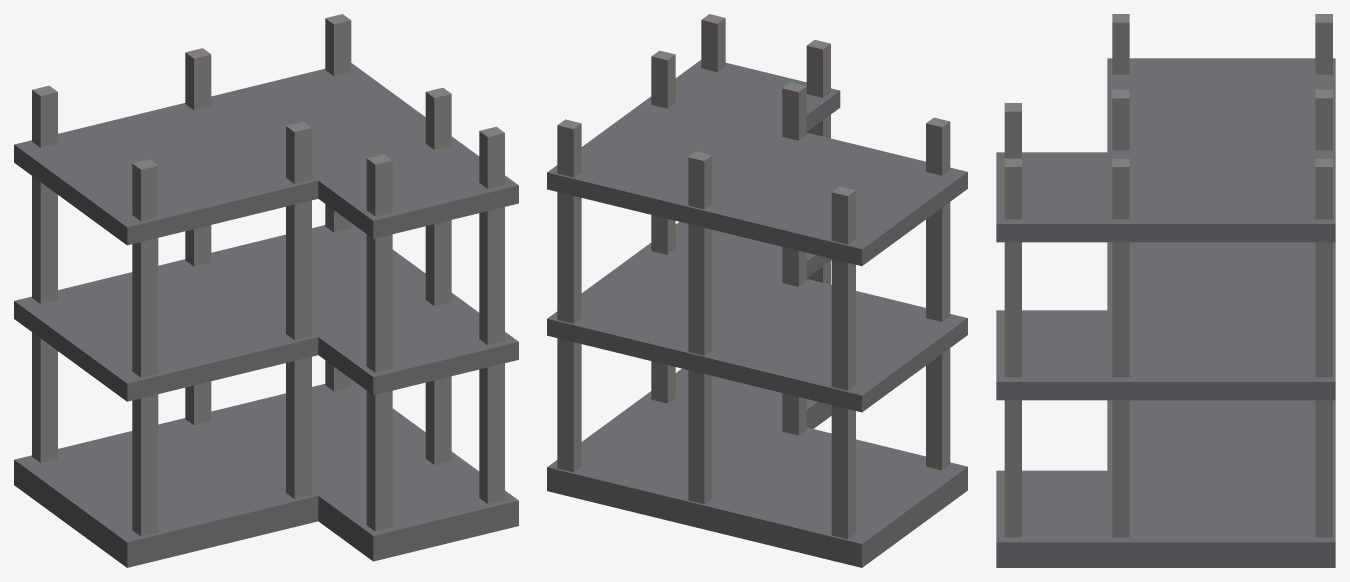
File: Construction_2.fbx
3 renders of one model, left to right at view 1: azimuth 30°, elevation 25°; view 2: azimuth 150°, elevation 25°; view 3: azimuth 270°, elevation 25°, orthographic. The views are drawn at different scales.
Parts seen in each view (by area): view 1: Construction_2; view 2: Construction_2; view 3: Construction_2.
Part boxes in pixels (<box>): Construction_2: <box>14,14,518,567</box>; Construction_2: <box>547,14,967,567</box>; Construction_2: <box>996,14,1335,567</box>.
Size of the model in its own units: 693 by 772 by 599.
